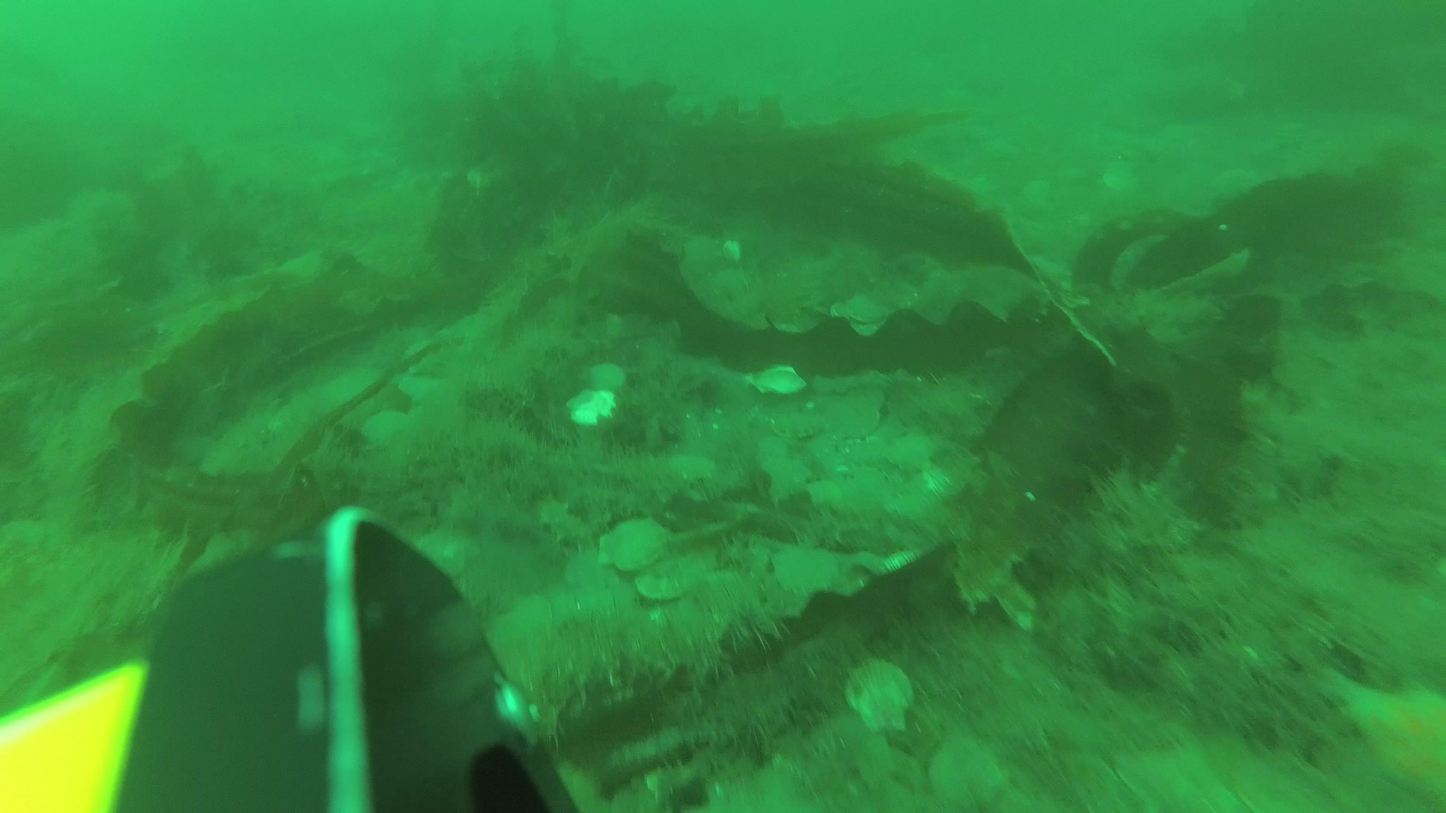echinus: (527, 492, 594, 554)
holothurian: (1322, 660, 1446, 813)
scallop: (930, 731, 1004, 813), (845, 657, 916, 734), (596, 517, 670, 575), (772, 542, 843, 596), (635, 550, 707, 601), (759, 454, 813, 499), (743, 363, 811, 397), (564, 387, 619, 428), (885, 432, 936, 475), (835, 400, 885, 443), (665, 448, 718, 484), (842, 290, 888, 326), (771, 414, 823, 440), (588, 361, 629, 393)
